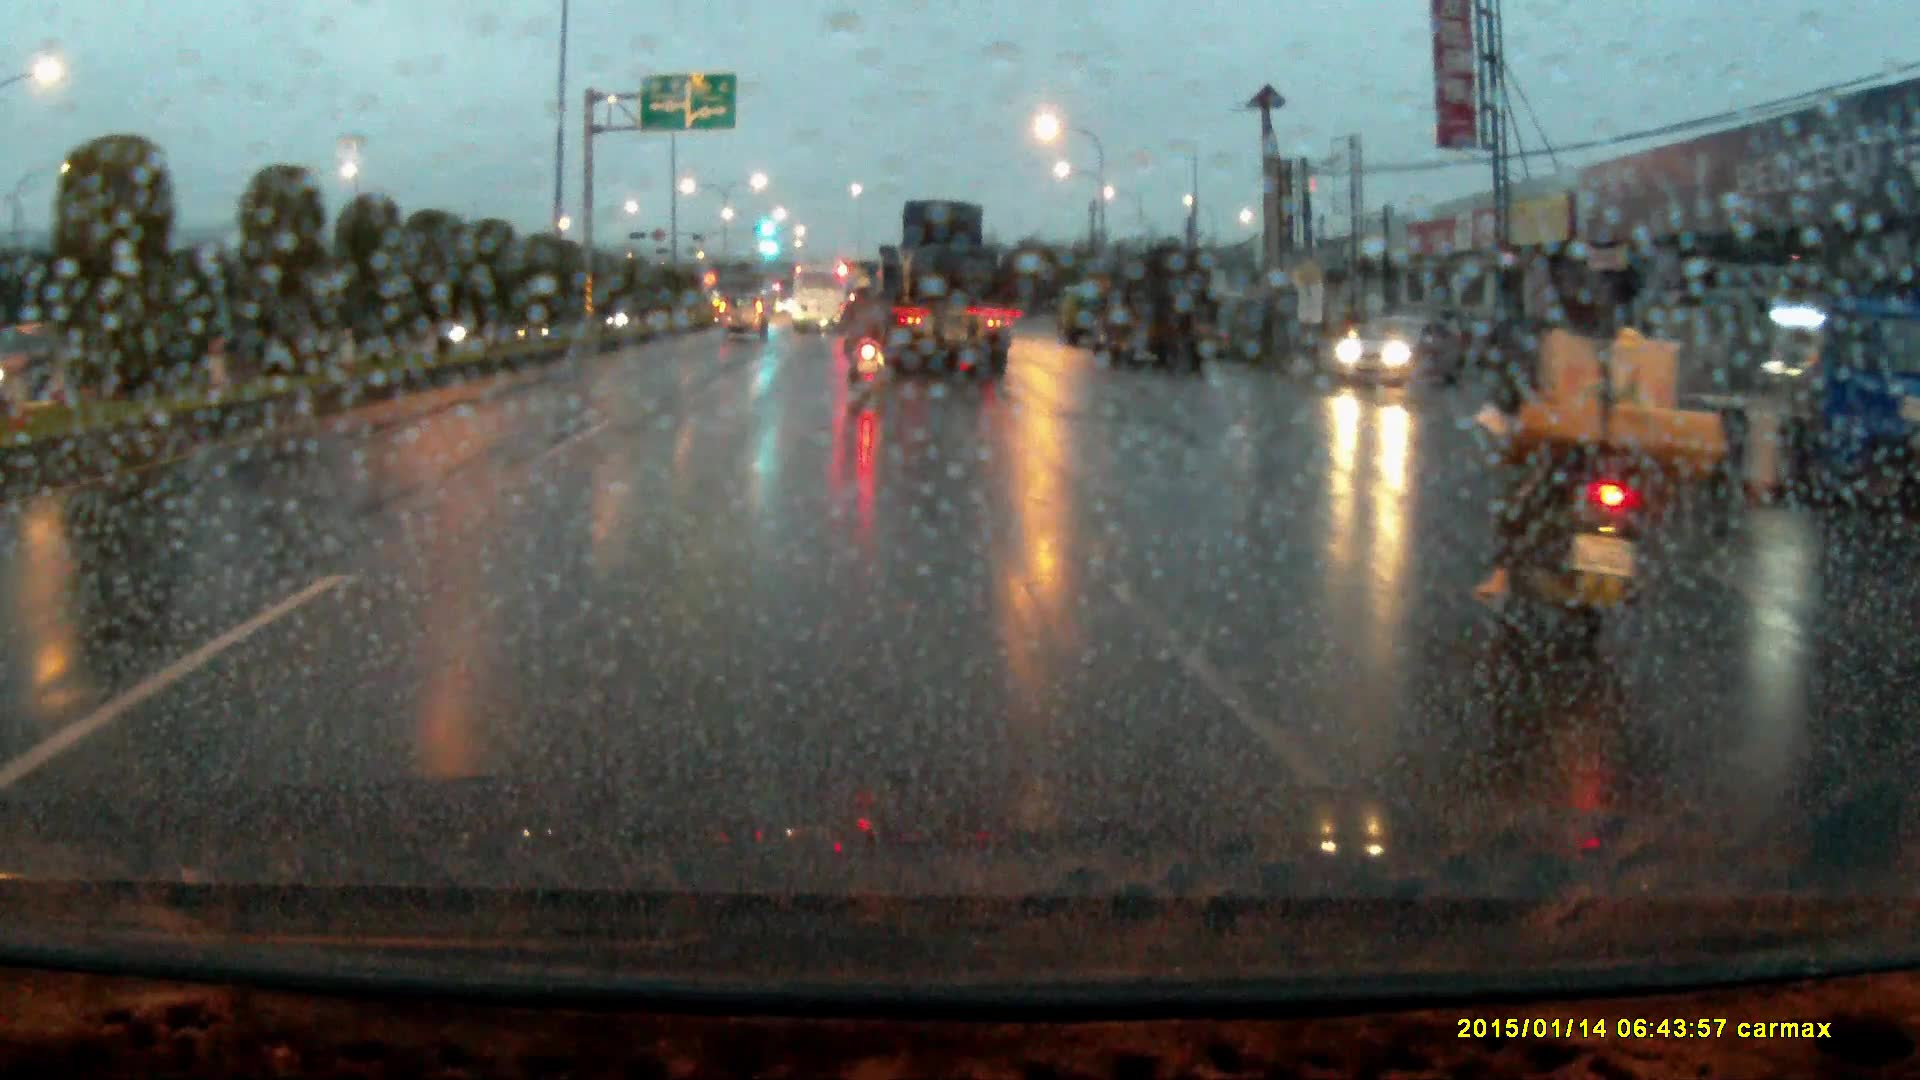rider: (1472, 249, 1746, 669), (840, 268, 895, 390)
vehicle: (1664, 290, 1920, 496), (867, 196, 1006, 374), (1099, 244, 1226, 370), (1332, 311, 1450, 385), (792, 260, 855, 331), (1056, 279, 1109, 340), (718, 285, 771, 337)
